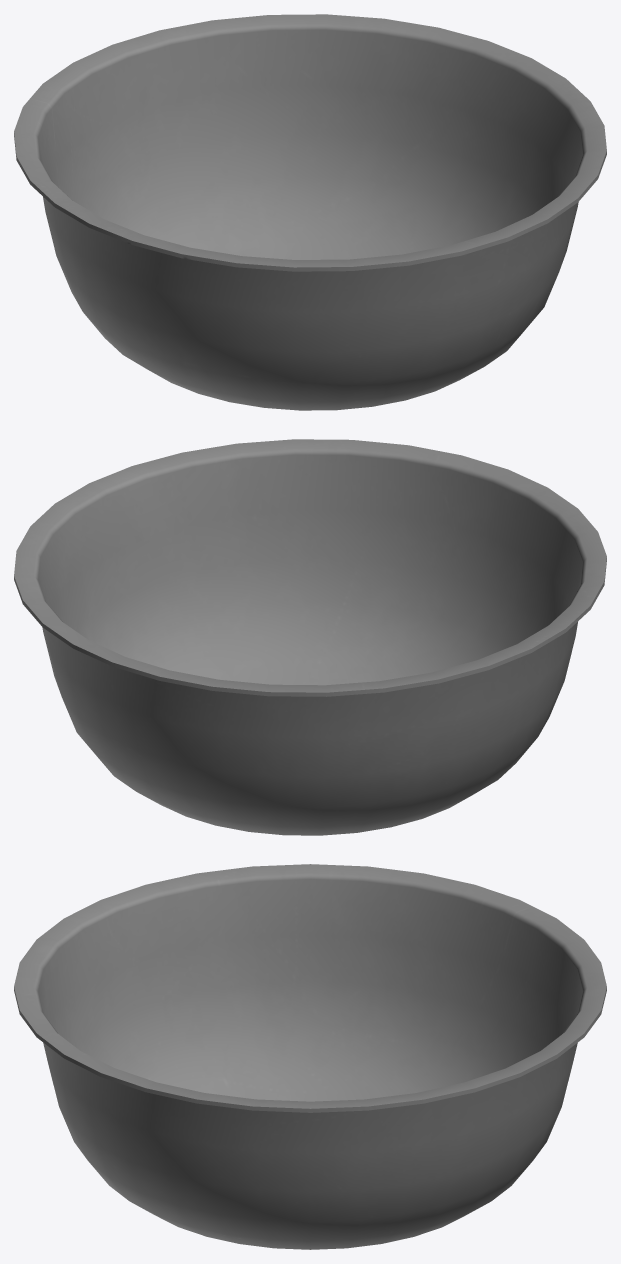
The model's file is Bowl_03.FBX.
The picture shows the model from 3 angles, top to bottom: view 1: azimuth 30°, elevation 25°; view 2: azimuth 150°, elevation 25°; view 3: azimuth 270°, elevation 25°; orthographic projection.
Parts seen in each view (by area): view 1: Bowl_03; view 2: Bowl_03; view 3: Bowl_03.
Boxes of the visible parts, bbox=[...] form: Bowl_03: bbox=[14, 14, 606, 410]; Bowl_03: bbox=[14, 439, 606, 835]; Bowl_03: bbox=[14, 864, 606, 1249].
Bounding box in the file's own units: 21.07 × 8.32 × 21.57.
1 material, 1 textured.
